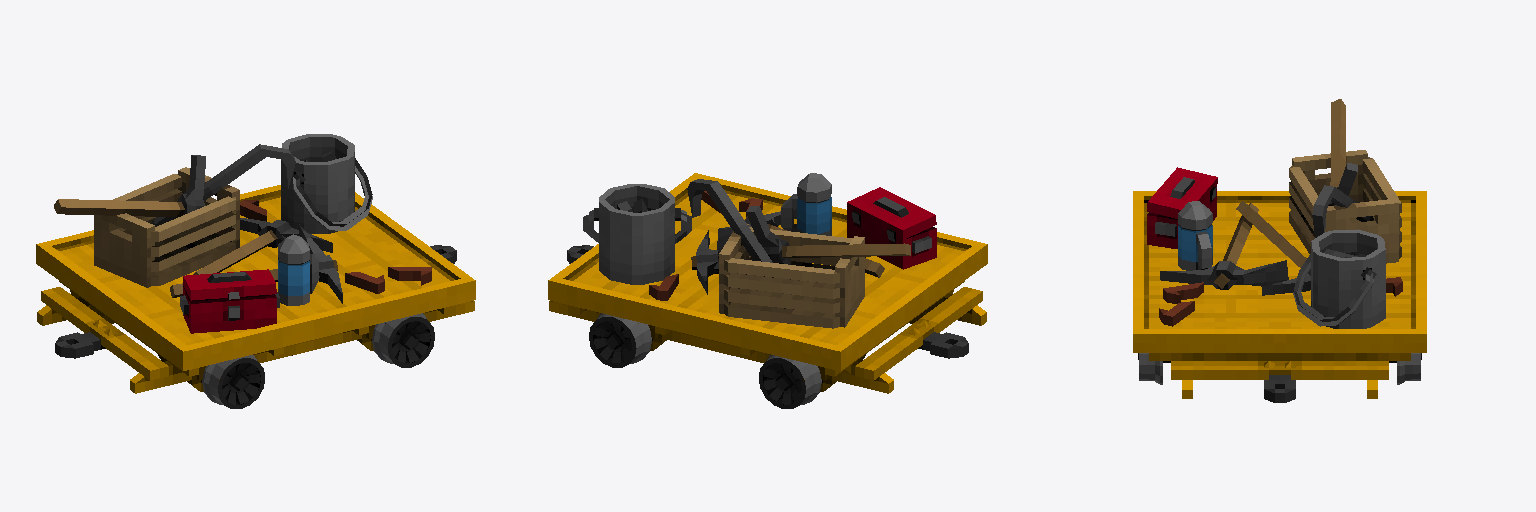
The picture shows the model from 3 angles: view 1: azimuth 30°, elevation 25°; view 2: azimuth 150°, elevation 25°; view 3: azimuth 270°, elevation 25°; orthographic projection.
Visible parts, largest first — view 1: SHELL.004_Cube.058, CARGO_FILL_30_Cube.035, CARGO_FILL_90_Cube.1067, CARGO_FILL_50_Cube.1055, FRAME.007_Cube.055, CARGO_FILL_75_Cube.008, FRAME_WHEEL_2.006_Circle.009, FRAME_WHEEL_1.005_Circle.008, CARGO_FILL_10_Cube.017, Cube.038_Cube.054, SHELL.005_Cube.062; view 2: SHELL.004_Cube.058, CARGO_FILL_30_Cube.035, CARGO_FILL_50_Cube.1055, CARGO_FILL_90_Cube.1067, FRAME.007_Cube.055, FRAME_WHEEL_2.006_Circle.009, FRAME_WHEEL_1.005_Circle.008, CARGO_FILL_75_Cube.008, Cube.038_Cube.054, CARGO_FILL_10_Cube.017, SHELL.005_Cube.062; view 3: SHELL.004_Cube.058, CARGO_FILL_30_Cube.035, CARGO_FILL_50_Cube.1055, CARGO_FILL_90_Cube.1067, FRAME.007_Cube.055, CARGO_FILL_75_Cube.008, SHELL.005_Cube.062, CARGO_FILL_10_Cube.017, FRAME_WHEEL_2.006_Circle.009, Cube.038_Cube.054.
Boxes of the visible parts, x1=… form: SHELL.004_Cube.058: x1=36, y1=185, x2=475, y2=370; CARGO_FILL_30_Cube.035: x1=54, y1=144, x2=295, y2=287; CARGO_FILL_90_Cube.1067: x1=180, y1=234, x2=318, y2=333; CARGO_FILL_50_Cube.1055: x1=281, y1=134, x2=372, y2=233; FRAME.007_Cube.055: x1=37, y1=287, x2=474, y2=393; CARGO_FILL_75_Cube.008: x1=170, y1=218, x2=342, y2=303; FRAME_WHEEL_2.006_Circle.009: x1=372, y1=313, x2=434, y2=367; FRAME_WHEEL_1.005_Circle.008: x1=202, y1=355, x2=264, y2=408; CARGO_FILL_10_Cube.017: x1=240, y1=200, x2=431, y2=293; Cube.038_Cube.054: x1=55, y1=245, x2=456, y2=358; SHELL.005_Cube.062: x1=59, y1=281, x2=452, y2=376; SHELL.004_Cube.058: x1=548, y1=173, x2=987, y2=370; CARGO_FILL_30_Cube.035: x1=687, y1=179, x2=910, y2=328; CARGO_FILL_50_Cube.1055: x1=583, y1=184, x2=691, y2=284; CARGO_FILL_90_Cube.1067: x1=781, y1=173, x2=936, y2=269; FRAME.007_Cube.055: x1=549, y1=287, x2=986, y2=393; FRAME_WHEEL_2.006_Circle.009: x1=589, y1=313, x2=651, y2=367; FRAME_WHEEL_1.005_Circle.008: x1=759, y1=355, x2=821, y2=408; CARGO_FILL_75_Cube.008: x1=691, y1=209, x2=884, y2=294; Cube.038_Cube.054: x1=567, y1=245, x2=968, y2=358; CARGO_FILL_10_Cube.017: x1=649, y1=188, x2=762, y2=300; SHELL.005_Cube.062: x1=571, y1=281, x2=964, y2=376; SHELL.004_Cube.058: x1=1133, y1=191, x2=1426, y2=352; CARGO_FILL_30_Cube.035: x1=1289, y1=99, x2=1401, y2=263; CARGO_FILL_50_Cube.1055: x1=1293, y1=229, x2=1385, y2=328; CARGO_FILL_90_Cube.1067: x1=1147, y1=167, x2=1217, y2=270; FRAME.007_Cube.055: x1=1171, y1=361, x2=1388, y2=398; CARGO_FILL_75_Cube.008: x1=1160, y1=201, x2=1310, y2=295; SHELL.005_Cube.062: x1=1149, y1=353, x2=1410, y2=360; CARGO_FILL_10_Cube.017: x1=1159, y1=277, x2=1402, y2=326; FRAME_WHEEL_2.006_Circle.009: x1=1138, y1=353, x2=1421, y2=384; Cube.038_Cube.054: x1=1264, y1=375, x2=1295, y2=402.
Bounding box in the file's own units: 2.62 × 1.07 × 1.69.
1 materials, 1 textured.